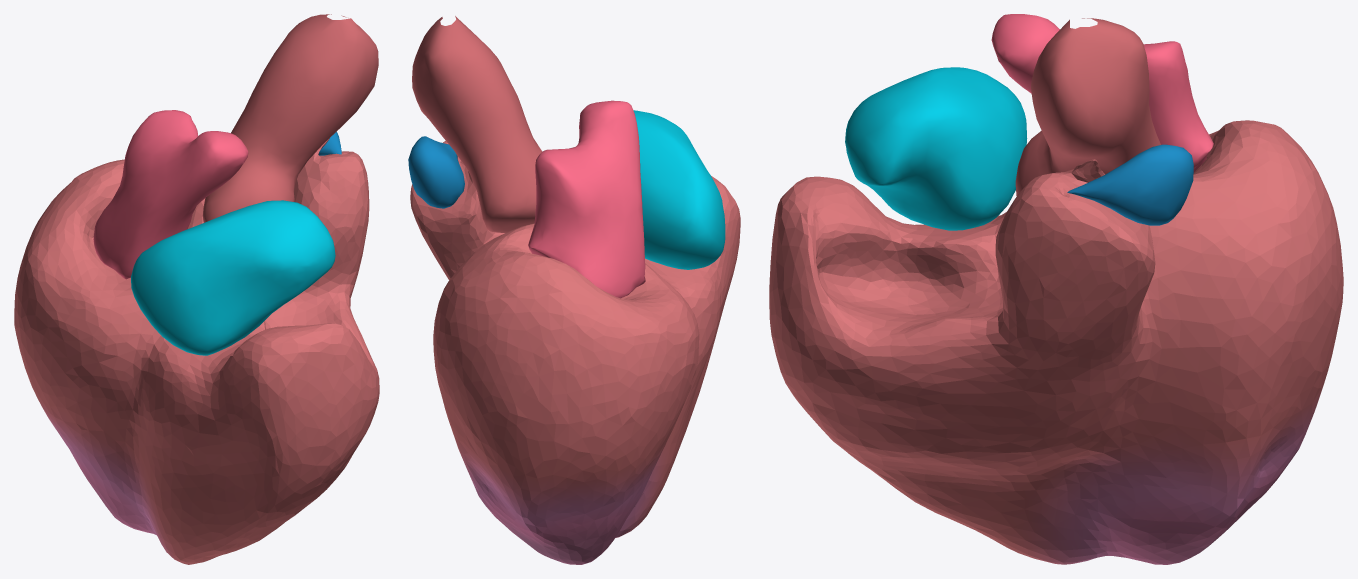
File: frame_66.glb
3 views of the same model, side by side, from view 1: azimuth 30°, elevation 25°; view 2: azimuth 150°, elevation 25°; view 3: azimuth 270°, elevation 25° (orthographic). The views are drawn at different scales.
Parts seen in each view (by area): view 1: Renderer Node; view 2: Renderer Node; view 3: Renderer Node.
Part boxes in pixels (x1,y1,x2,y2): Renderer Node: (14,14,379,564); Renderer Node: (408,16,740,564); Renderer Node: (769,14,1343,564).
Size of the model in its own units: 101 by 159 by 129.
